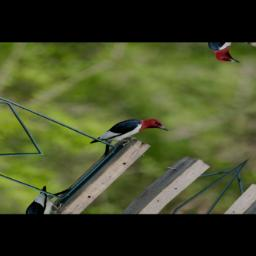Woodpecker: (89, 107, 174, 162)
